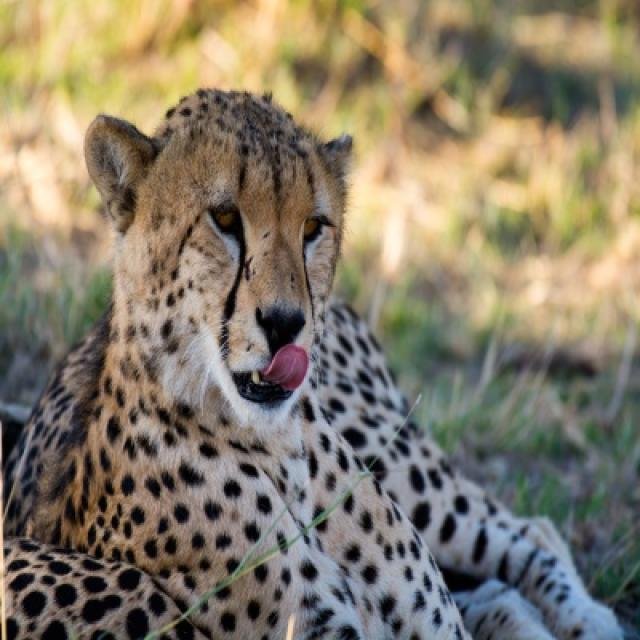Cheetah: (2, 88, 627, 638)
